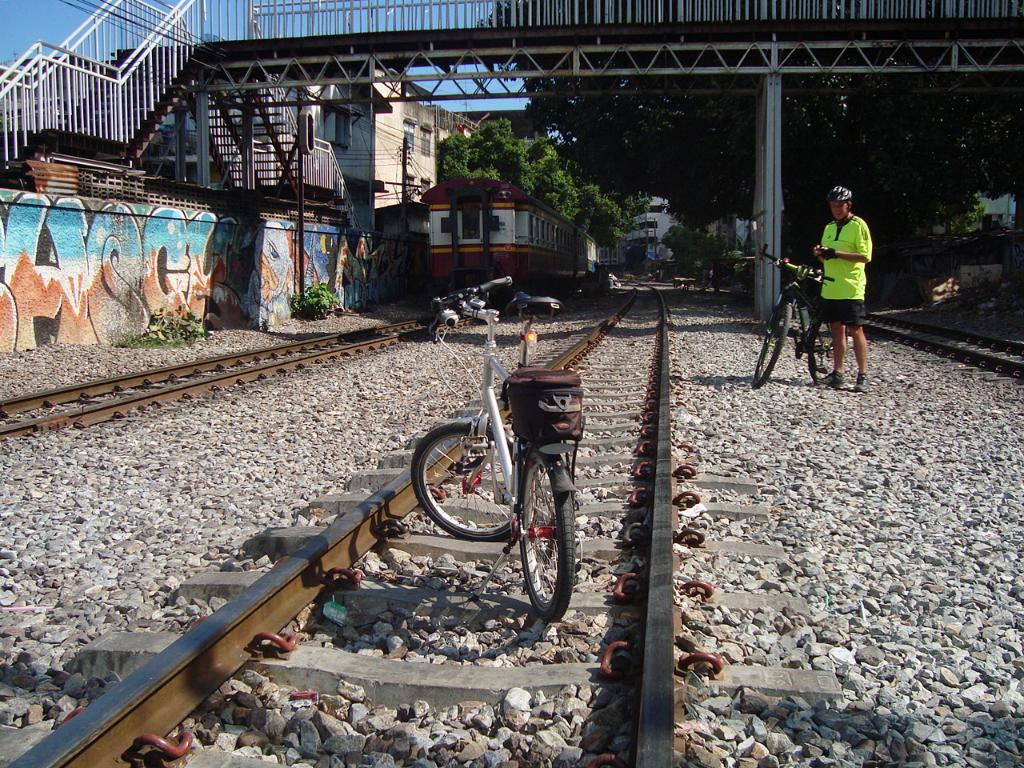train: (418, 175, 597, 284)
